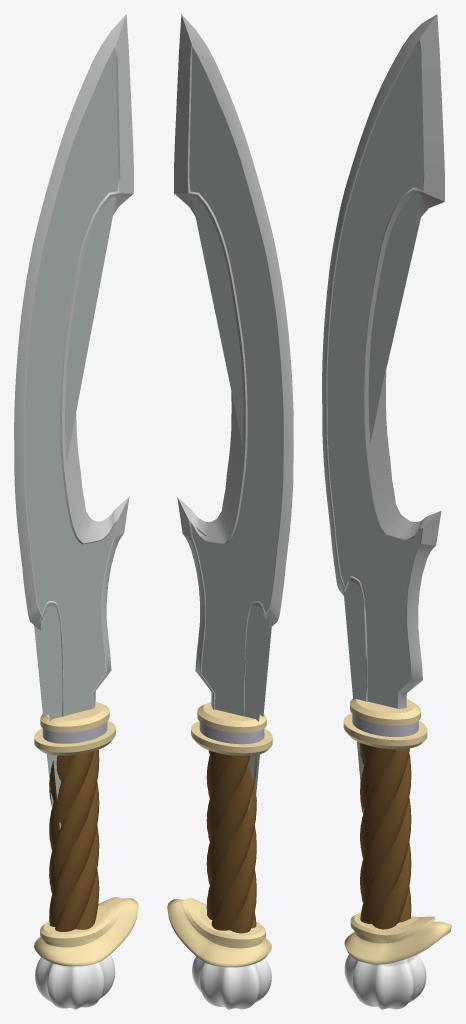
The model's file is Sword V2.fbx.
3 views of the same model, side by side, from view 1: azimuth 30°, elevation 25°; view 2: azimuth 150°, elevation 25°; view 3: azimuth 330°, elevation 25° (orthographic). The views are drawn at different scales.
Visible parts, largest first — view 1: Face_R, Blade_edge, Handle, Gold, Cutting_edge, Orb, Face_L, Marble; view 2: Face_L, Blade_edge, Handle, Gold, Cutting_edge, Orb, Marble, Face_R; view 3: Face_R, Handle, Cutting_edge, Blade_edge, Gold, Orb, Marble, Face_L.
Boxes of the visible parts, bbox=[...] form: Face_R: bbox=[24, 48, 118, 829]; Blade_edge: bbox=[14, 14, 126, 716]; Handle: bbox=[49, 750, 99, 931]; Gold: bbox=[34, 701, 138, 966]; Cutting_edge: bbox=[62, 14, 133, 543]; Orb: bbox=[35, 955, 115, 1009]; Face_L: bbox=[34, 625, 53, 807]; Marble: bbox=[42, 721, 107, 743]; Face_L: bbox=[189, 49, 283, 811]; Blade_edge: bbox=[181, 14, 293, 716]; Handle: bbox=[206, 750, 256, 933]; Gold: bbox=[167, 702, 272, 967]; Cutting_edge: bbox=[174, 14, 245, 543]; Orb: bbox=[192, 956, 271, 1009]; Marble: bbox=[199, 722, 264, 744]; Face_R: bbox=[254, 627, 271, 795]; Face_R: bbox=[327, 42, 423, 813]; Handle: bbox=[360, 743, 411, 929]; Cutting_edge: bbox=[364, 14, 444, 545]; Blade_edge: bbox=[322, 14, 436, 709]; Gold: bbox=[343, 699, 451, 964]; Orb: bbox=[344, 954, 426, 1009]; Marble: bbox=[352, 714, 418, 736]; Face_L: bbox=[386, 218, 420, 368].
Bounding box in the file's own units: 9.18 × 70.3 × 5.03.
